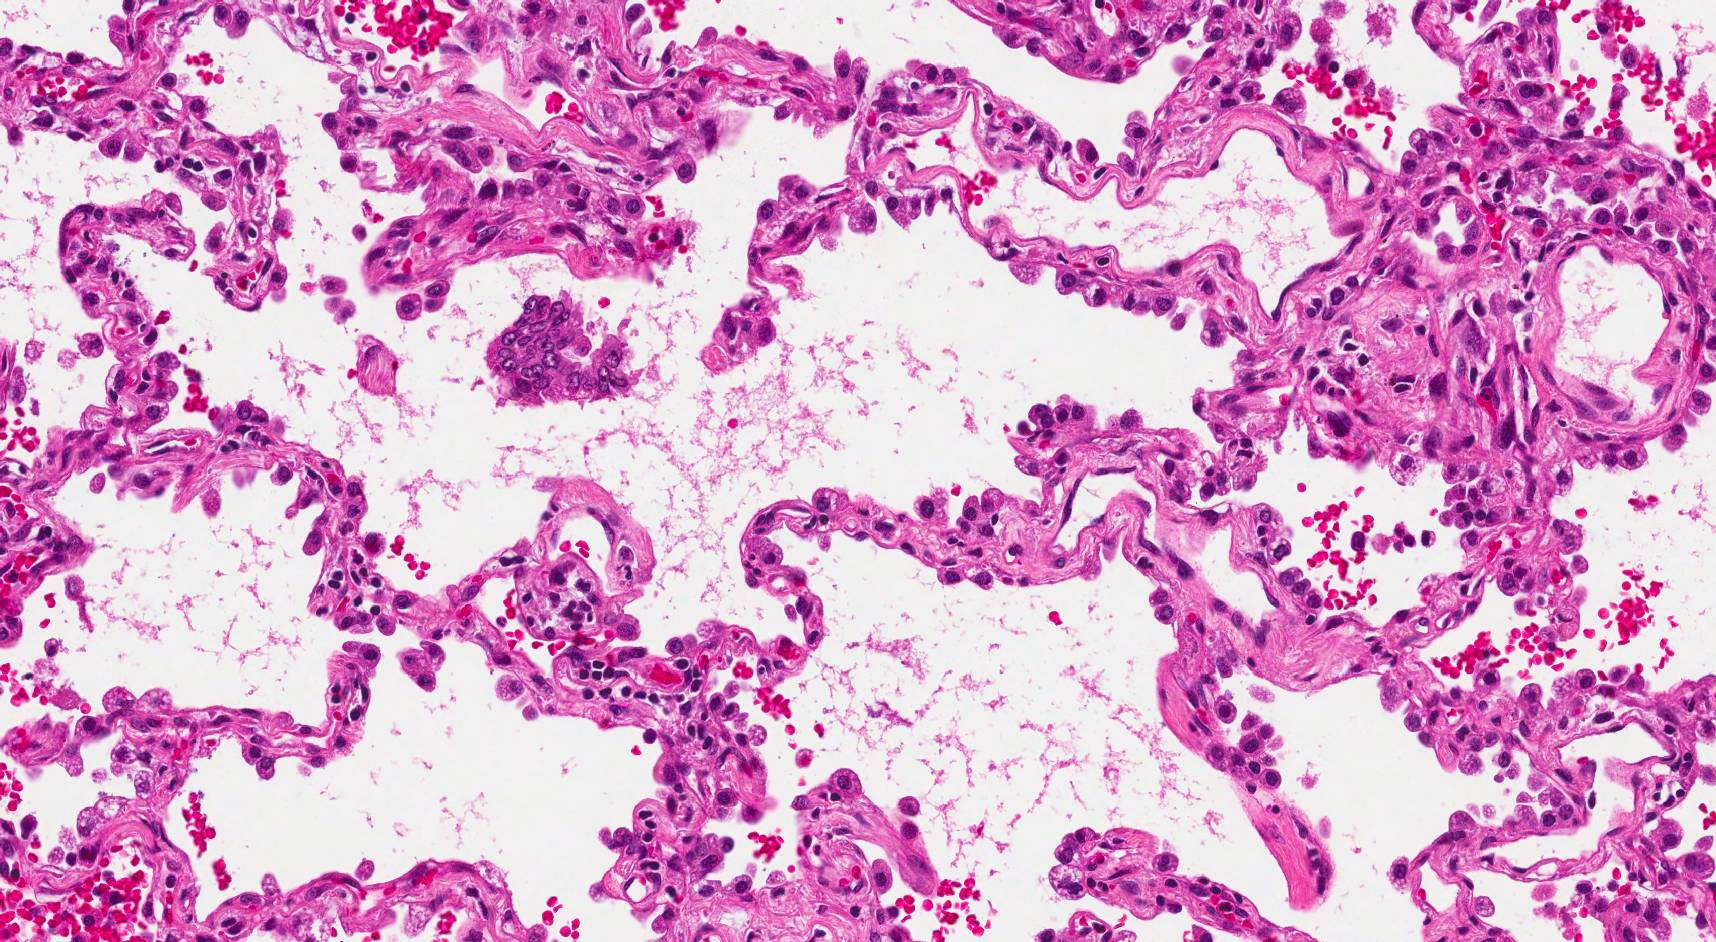stas: (478, 291, 641, 411)
